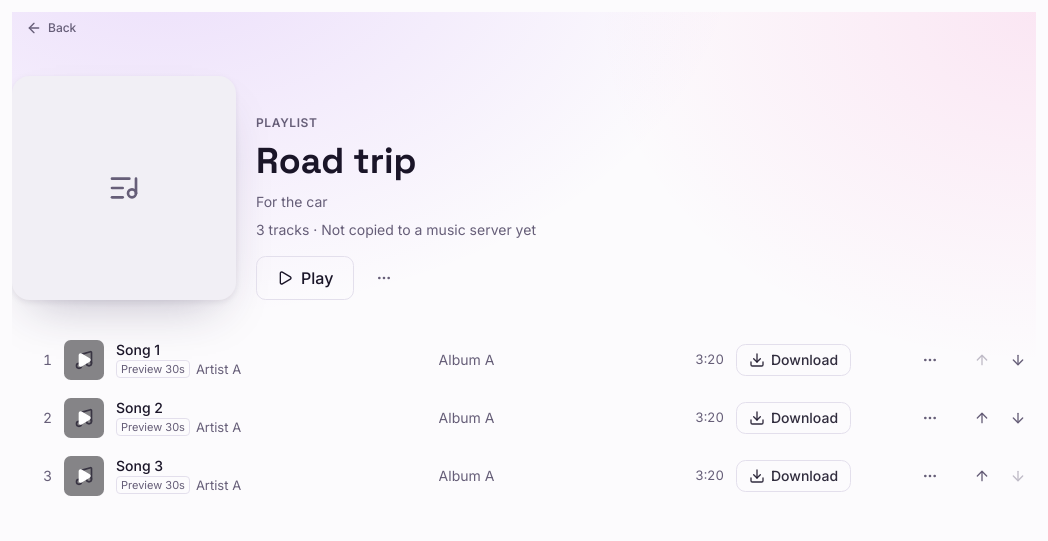
Test: An own playlist › has the playlists' own menu in its header, without Open (it is open), and no separate Duplicate button
What coordinates should you click on to do the following:
click the button named "More actions for Road trip"
I would click on:
 (384, 278)
Its box is [362,256,406,300].
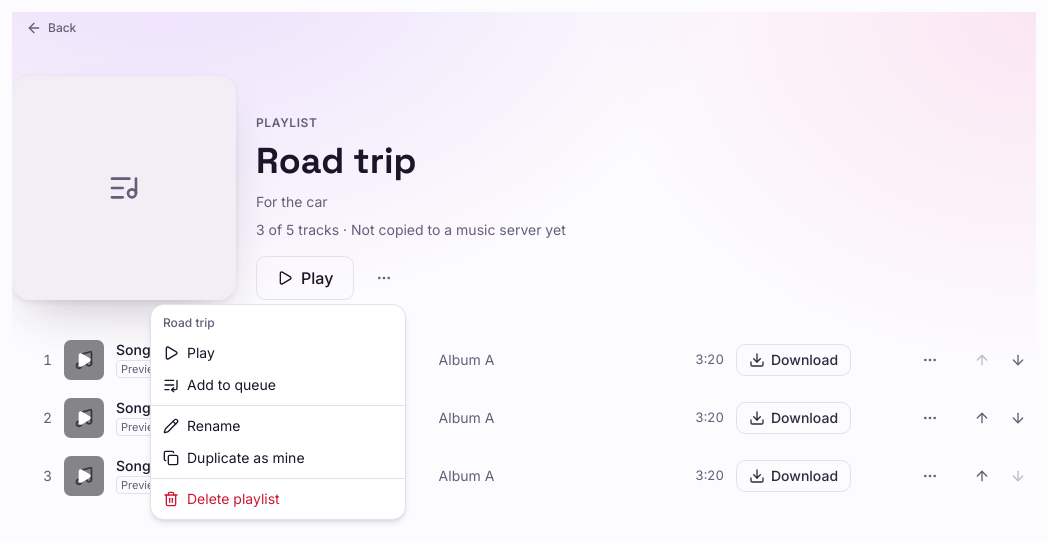
Now the menu items read "Play", "Add to queue", "Rename", "Duplicate as mine", "Delete playlist", in this order, box [163,344,215,361]; [163,376,276,393]; [163,417,240,434]; [163,449,305,466]; [163,490,280,507]
